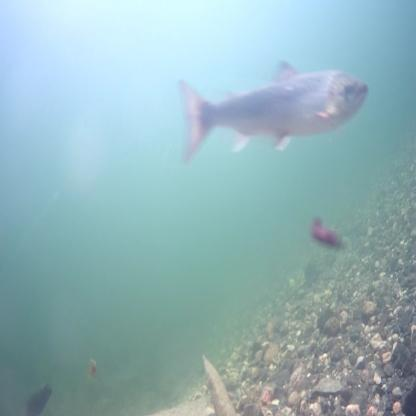salmon: (166, 52, 372, 169)
